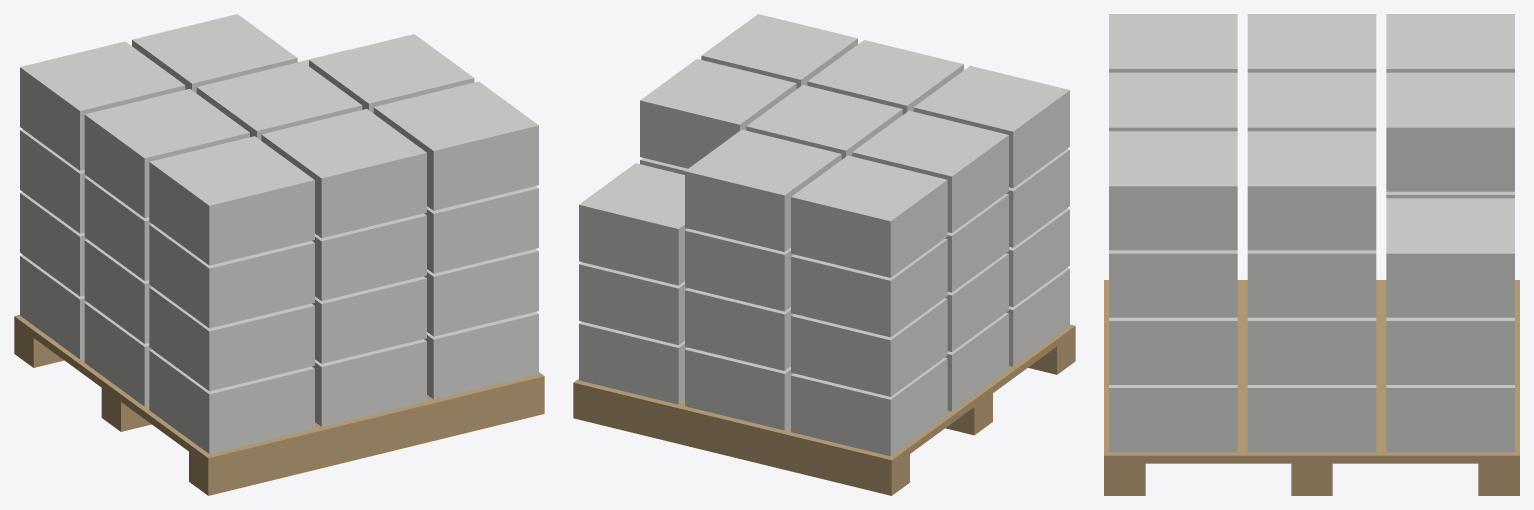
The model's file is pallet_mp_35.glb.
The picture shows the model from 3 angles, left to right: view 1: azimuth 30°, elevation 25°; view 2: azimuth 150°, elevation 25°; view 3: azimuth 270°, elevation 25°; orthographic projection. The views are drawn at different scales.
Visible parts, largest first — view 1: PalletMP; view 2: PalletMP; view 3: PalletMP.
Part boxes in pixels (x1,y1,x2,y2): PalletMP: (14, 14, 544, 495); PalletMP: (573, 14, 1075, 495); PalletMP: (1104, 14, 1519, 495).
Size of the model in its own units: 1 by 0.8171 by 1.
